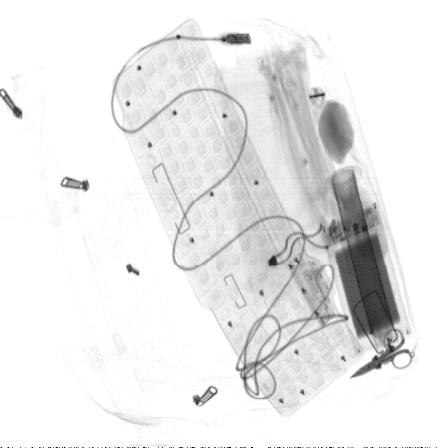Powerbank: (319, 200, 416, 356)
Scissors: (348, 326, 414, 383)
